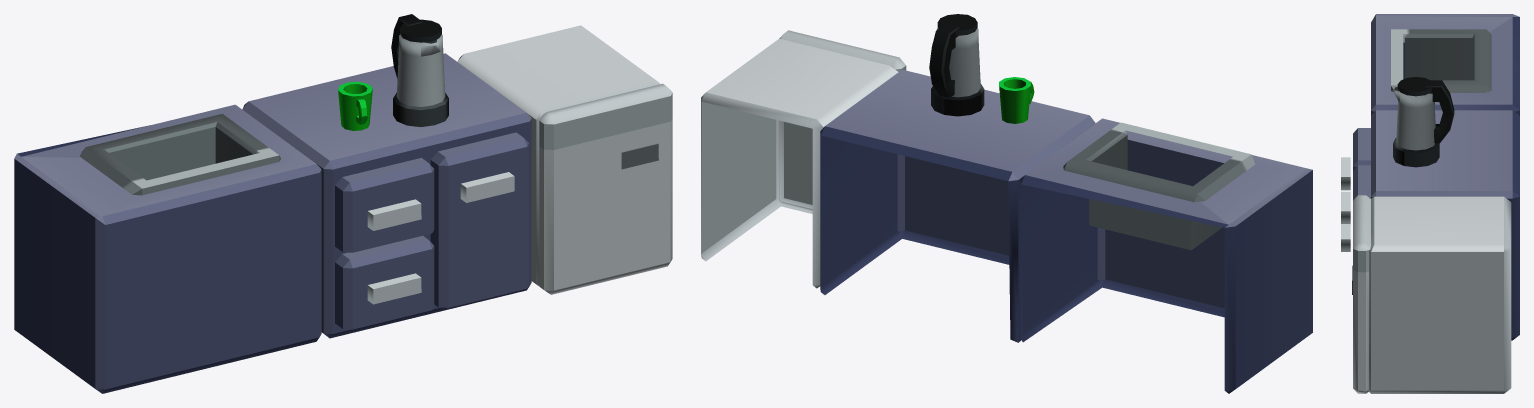
File: Kitchen.fbx
3 views of the same model, side by side, from view 1: azimuth 30°, elevation 25°; view 2: azimuth 150°, elevation 25°; view 3: azimuth 270°, elevation 25° (orthographic). The views are drawn at different scales.
Parts seen in each view (by area): view 1: Kitchen; view 2: Kitchen; view 3: Kitchen.
Part boxes in pixels (box(x1,y1,x2,y2)): Kitchen: box(14, 14, 672, 393); Kitchen: box(701, 14, 1312, 393); Kitchen: box(1341, 14, 1519, 393).
Bounding box in the file's own units: 26.82 × 12.04 × 8.71.
1 material, 1 textured.
